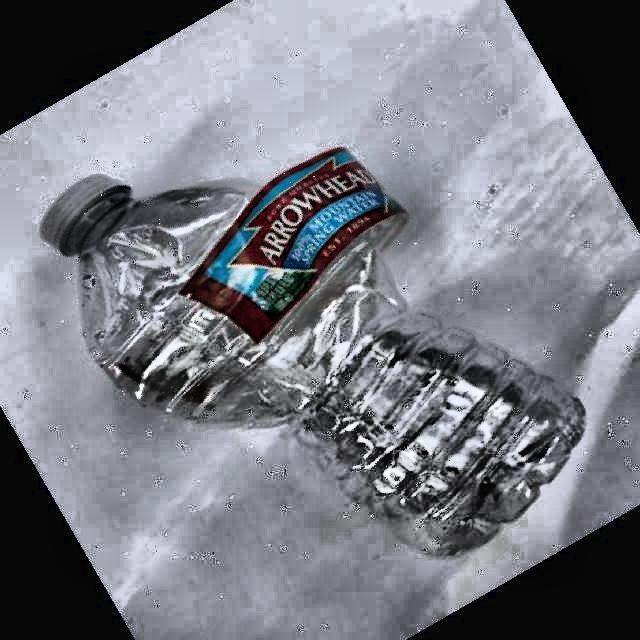plastic: (42, 148, 584, 554)
